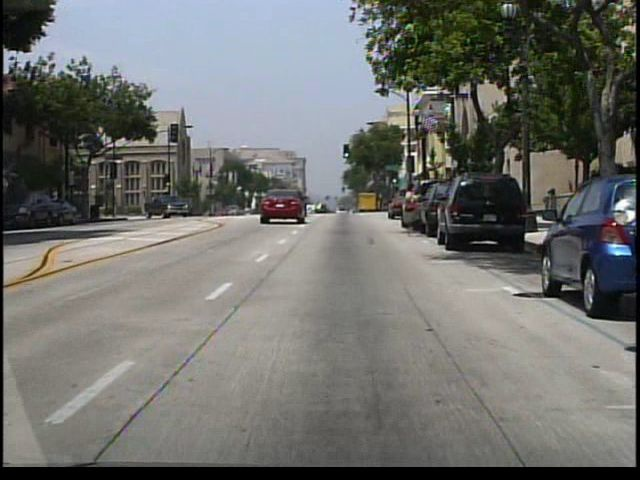person: (401, 182, 428, 238)
